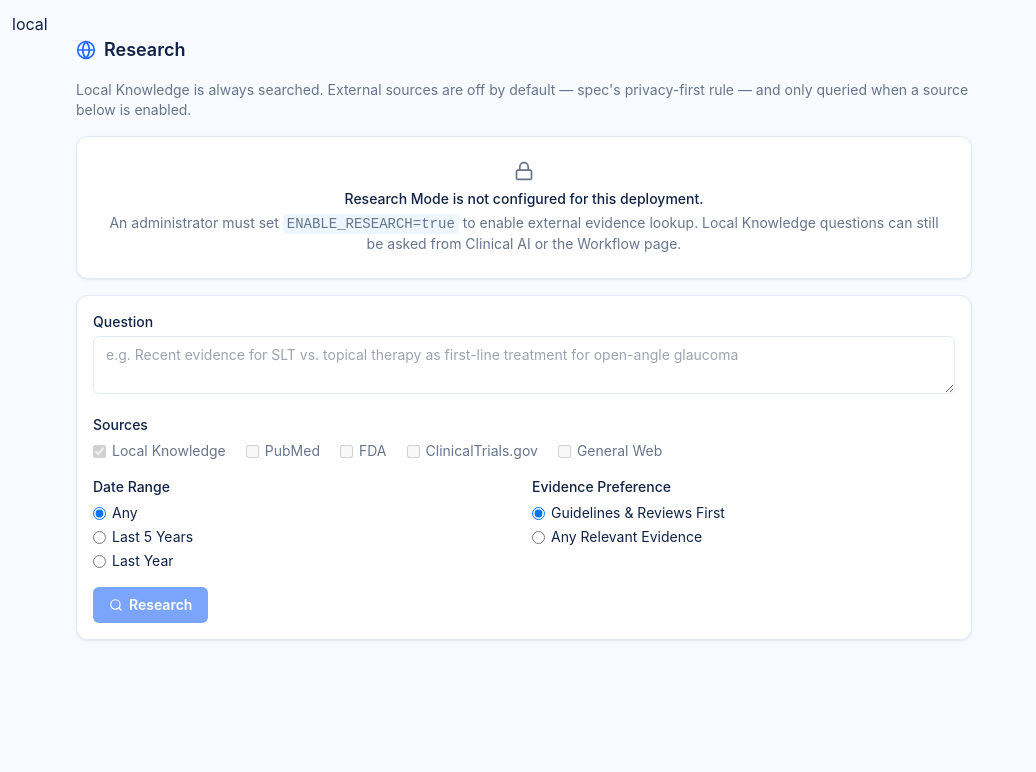
it: Research page › allows a local-only question even when Research Mode is disabled, and shows results with LOCAL badges
Type "Is SLT first-line for open-angle glaucoma?" into the text box with placeholder "Recent evidence for SLT" at (524, 365), box x1=93 y1=336 x2=955 y2=394
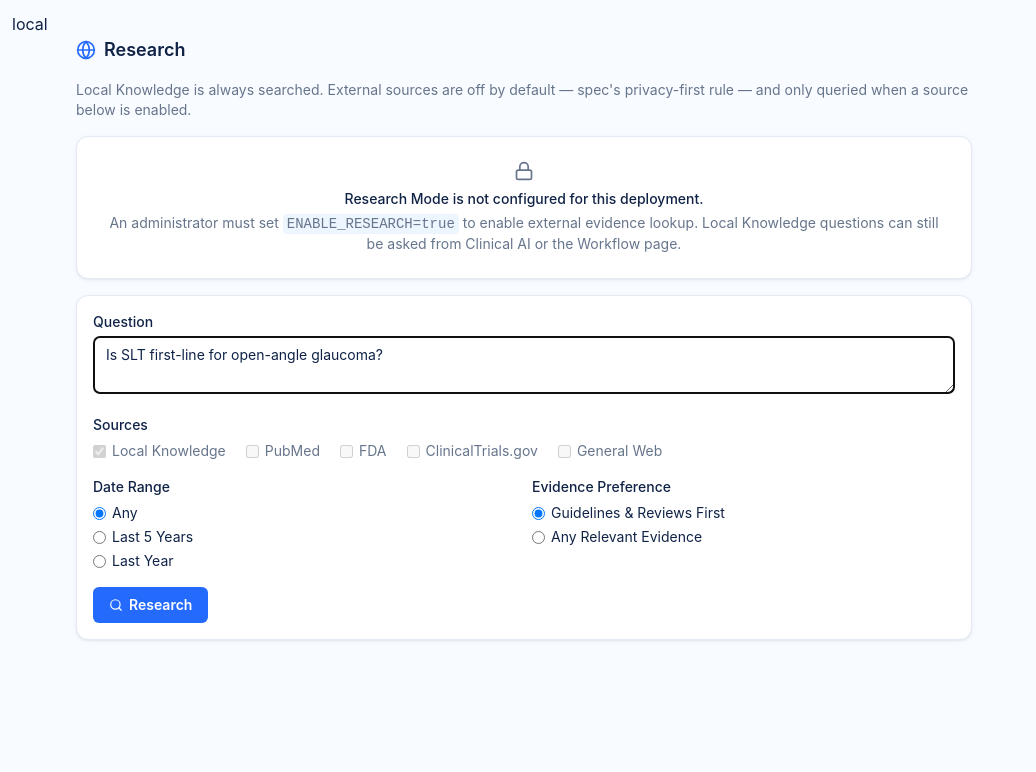
Click the button "Research" at (151, 605), box x1=93 y1=587 x2=208 y2=623
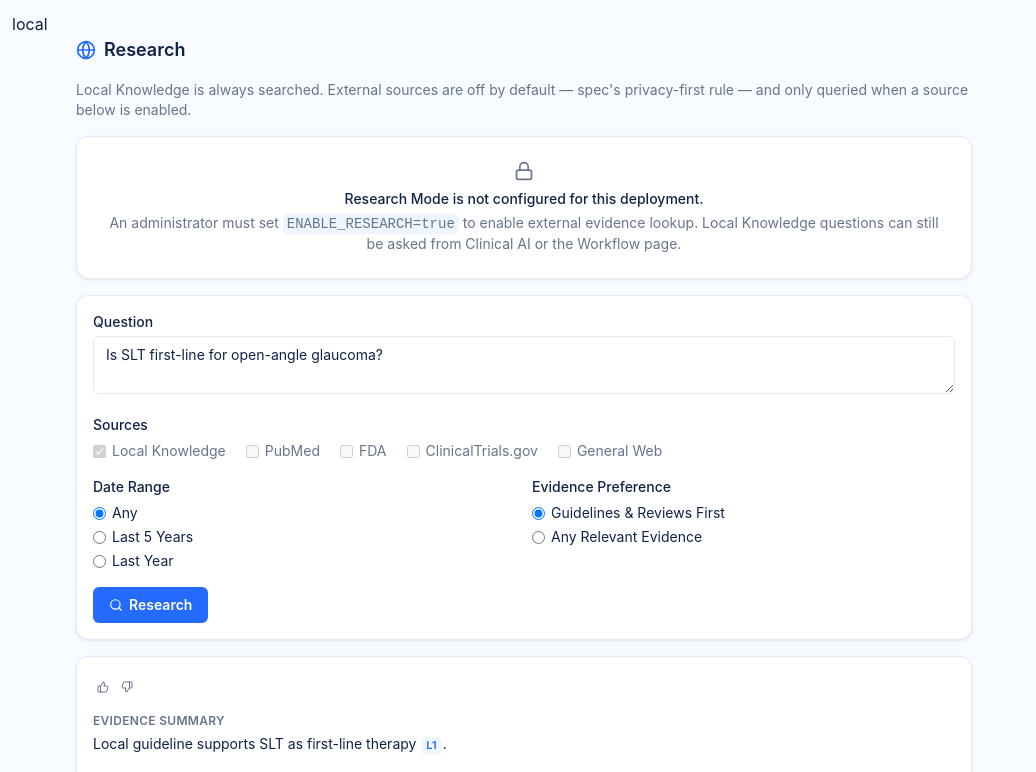
Expected: the text with test id "research-mode-spy" reads "local", x1=12 y1=14 x2=48 y2=34
Result: the text "Local guideline supports SLT as first-line therapy L1 ." is shown at x1=93 y1=735 x2=447 y2=755
